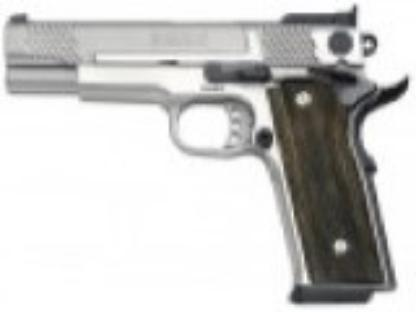pistol: (3, 7, 398, 298)
